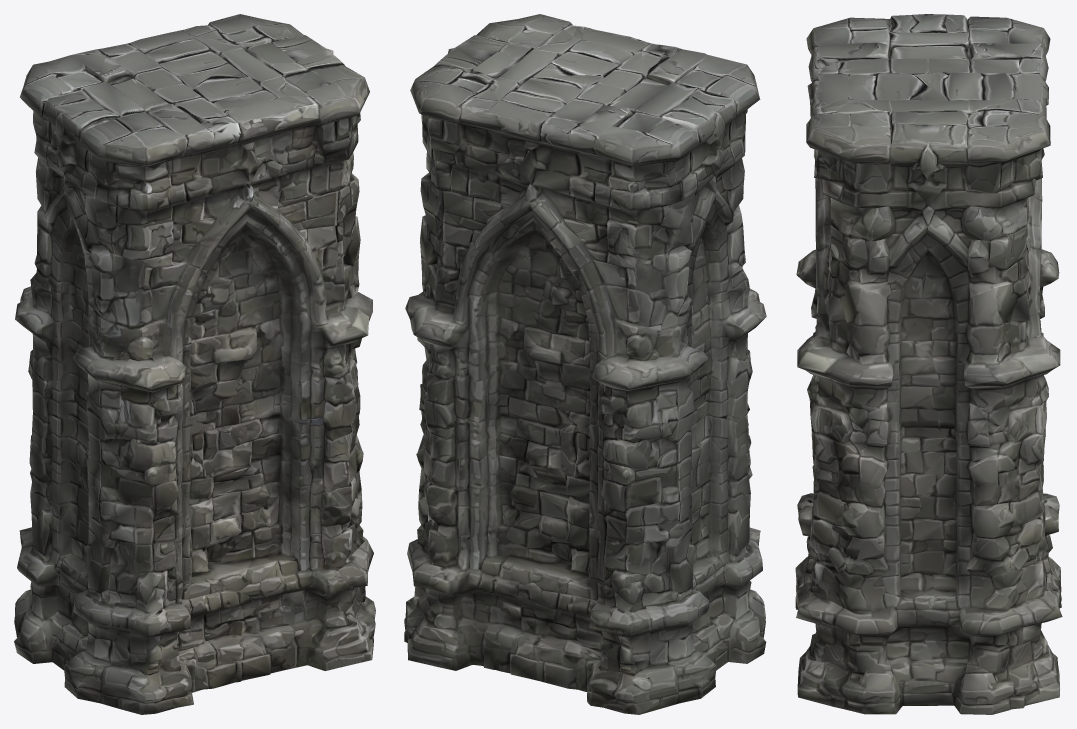
File: wal_goth.fbx
3 views of the same model, side by side, from view 1: azimuth 30°, elevation 25°; view 2: azimuth 150°, elevation 25°; view 3: azimuth 270°, elevation 25° (orthographic).
Visible parts, largest first — view 1: wal_goth_LOD0; view 2: wal_goth_LOD0; view 3: wal_goth_LOD0.
Part boxes in pixels (box(x1,y1,x2,y2)): wal_goth_LOD0: box(14, 14, 375, 714); wal_goth_LOD0: box(404, 14, 766, 714); wal_goth_LOD0: box(795, 14, 1062, 714).
Size of what is drawn, in the model's own units: 0.5428 by 0.9804 by 0.4178.
